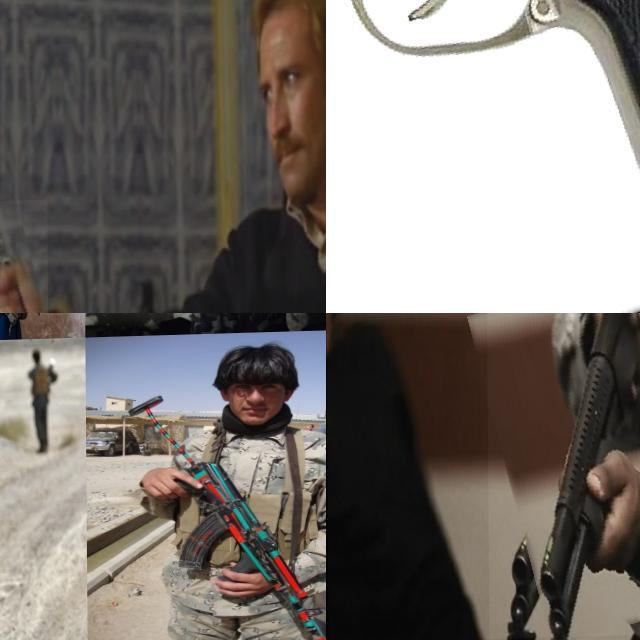gun-knife-thesis - v11 Yolov5 augmented: (326, 0, 640, 313), (486, 313, 640, 640), (125, 392, 326, 640), (124, 313, 326, 381), (0, 512, 98, 640), (0, 313, 82, 411), (0, 313, 60, 432), (0, 201, 58, 313)
